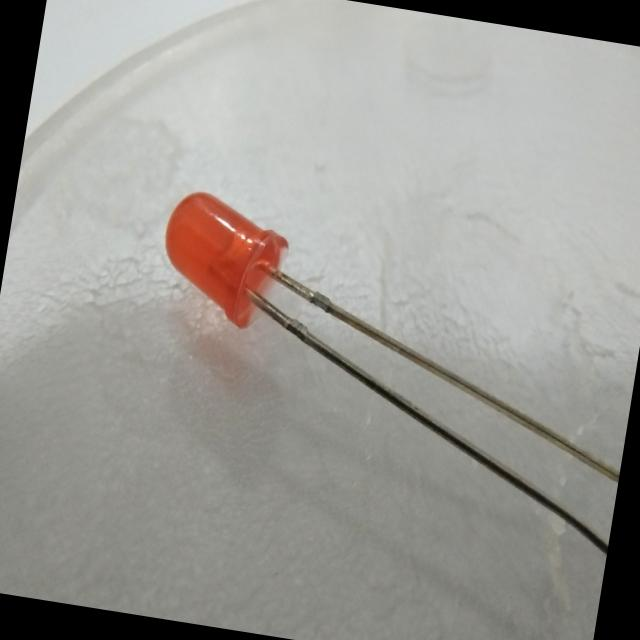red_led: (138, 176, 310, 361)
